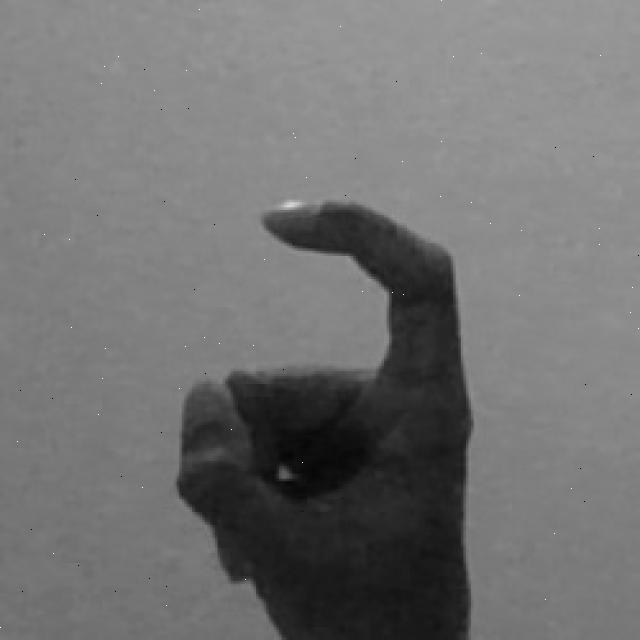X: (166, 186, 482, 640)
